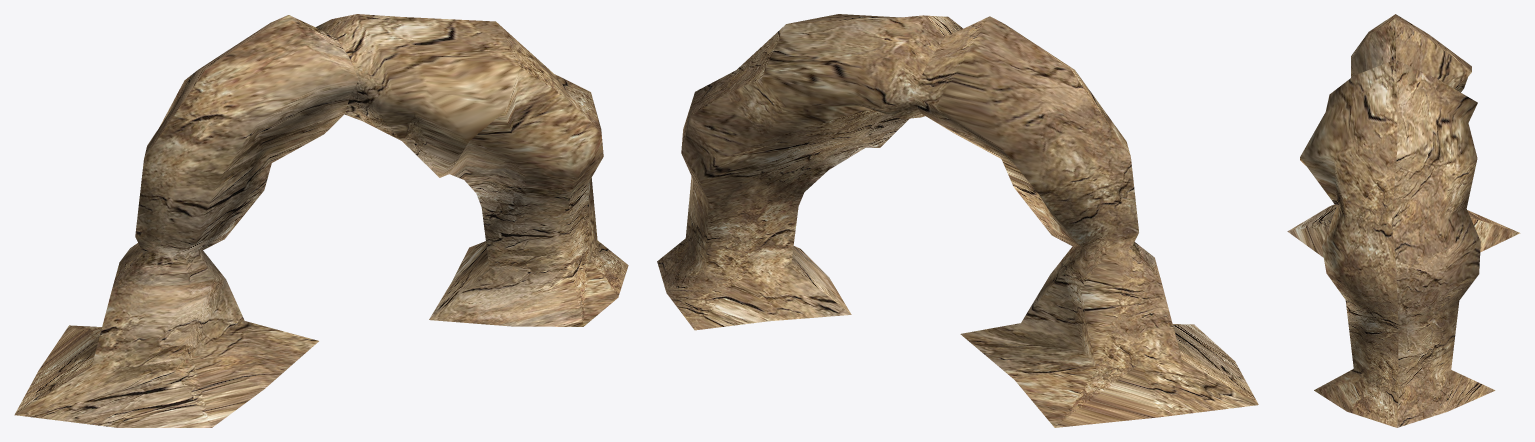
File: des_rock_formationC.fbx
3 views of the same model, side by side, from view 1: azimuth 30°, elevation 25°; view 2: azimuth 150°, elevation 25°; view 3: azimuth 270°, elevation 25° (orthographic). The views are drawn at different scales.
Parts seen in each view (by area): view 1: rock4; view 2: rock4; view 3: rock4.
Part boxes in pixels (x1,y1,x2,y2): rock4: [14, 14, 628, 427]; rock4: [657, 14, 1258, 427]; rock4: [1287, 14, 1520, 427].
Bounding box in the file's own units: 3180 × 1679 × 1277.
1 material, 1 textured.
